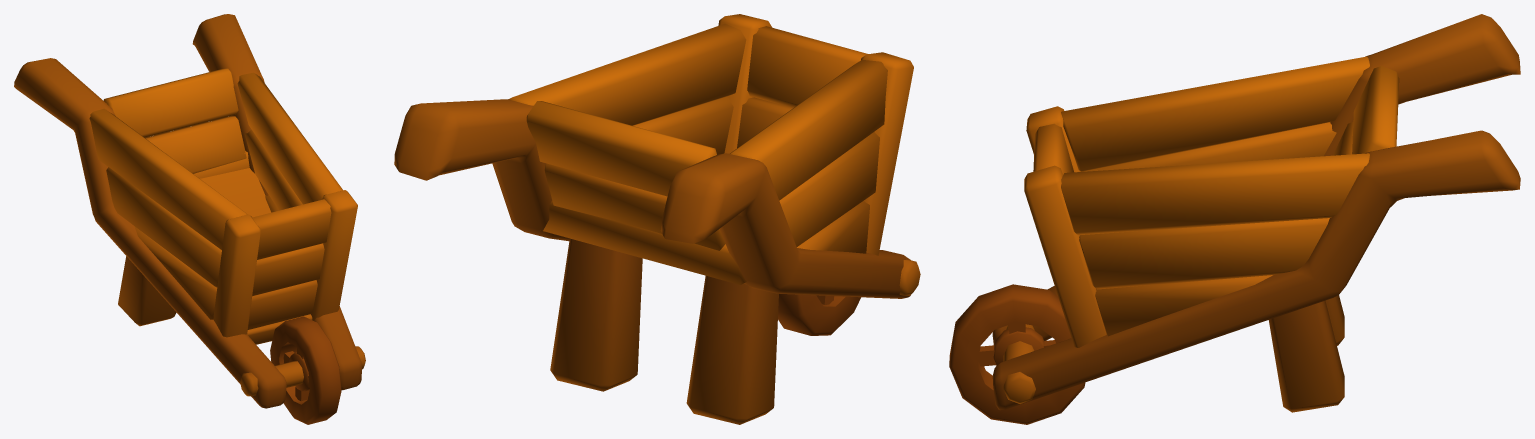
The model's file is Farm_Tool_Wooden_Trolley_01.fbx.
3 renders of one model, left to right at view 1: azimuth 30°, elevation 25°; view 2: azimuth 150°, elevation 25°; view 3: azimuth 270°, elevation 25°, orthographic. The views are drawn at different scales.
Visible parts, largest first — view 1: Farm_Tool_Wooden_Trolley_01, Farm_Tool_Wooden_Trolley_01_Wheel; view 2: Farm_Tool_Wooden_Trolley_01, Farm_Tool_Wooden_Trolley_01_Wheel; view 3: Farm_Tool_Wooden_Trolley_01, Farm_Tool_Wooden_Trolley_01_Wheel.
Part boxes in pixels (<box>): Farm_Tool_Wooden_Trolley_01: <box>14,14,365,408</box>; Farm_Tool_Wooden_Trolley_01_Wheel: <box>270,316,341,424</box>; Farm_Tool_Wooden_Trolley_01: <box>394,14,920,424</box>; Farm_Tool_Wooden_Trolley_01_Wheel: <box>778,294,860,335</box>; Farm_Tool_Wooden_Trolley_01: <box>992,14,1520,412</box>; Farm_Tool_Wooden_Trolley_01_Wheel: <box>949,284,1085,424</box>.
Size of the model in its own units: 94.12 by 107 by 163.
